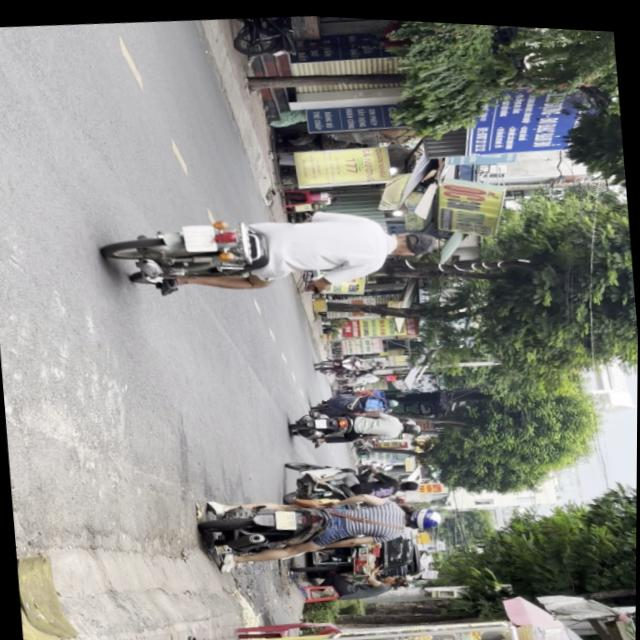helmet: (405, 499, 443, 526)
licenseplate: (99, 187, 444, 312), (198, 474, 449, 573)
motorcyclist: (390, 221, 438, 255)
nohelmet: (185, 221, 217, 251), (275, 506, 296, 527)
